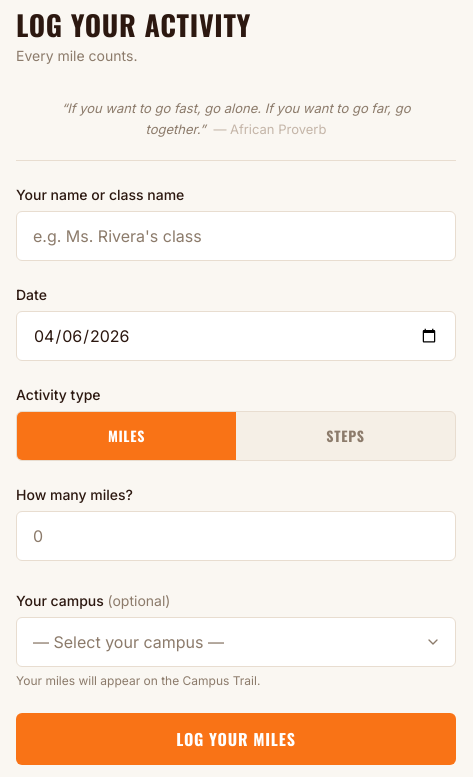
LogPage › Miles/Steps toggle › updates the submit button label when switching to Steps
Click the radio button labelled "steps" at (346, 436), box [236, 412, 455, 460]
(page scrolled)
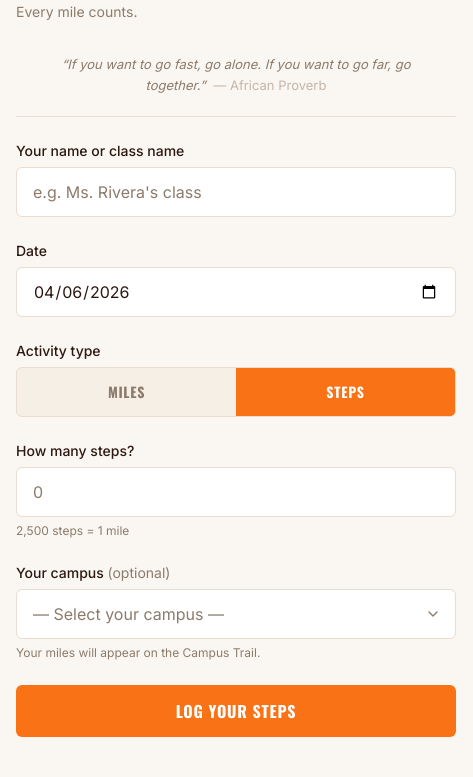
Now the button "Log your steps" is shown, box [16, 685, 456, 737]
